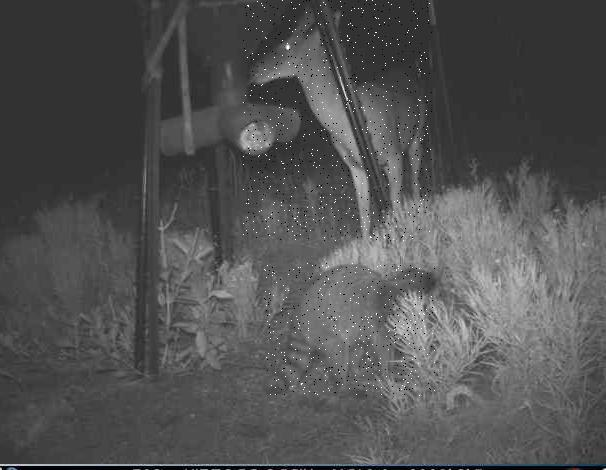Deer: (243, 0, 432, 241)
Raccoon: (264, 263, 435, 396)
